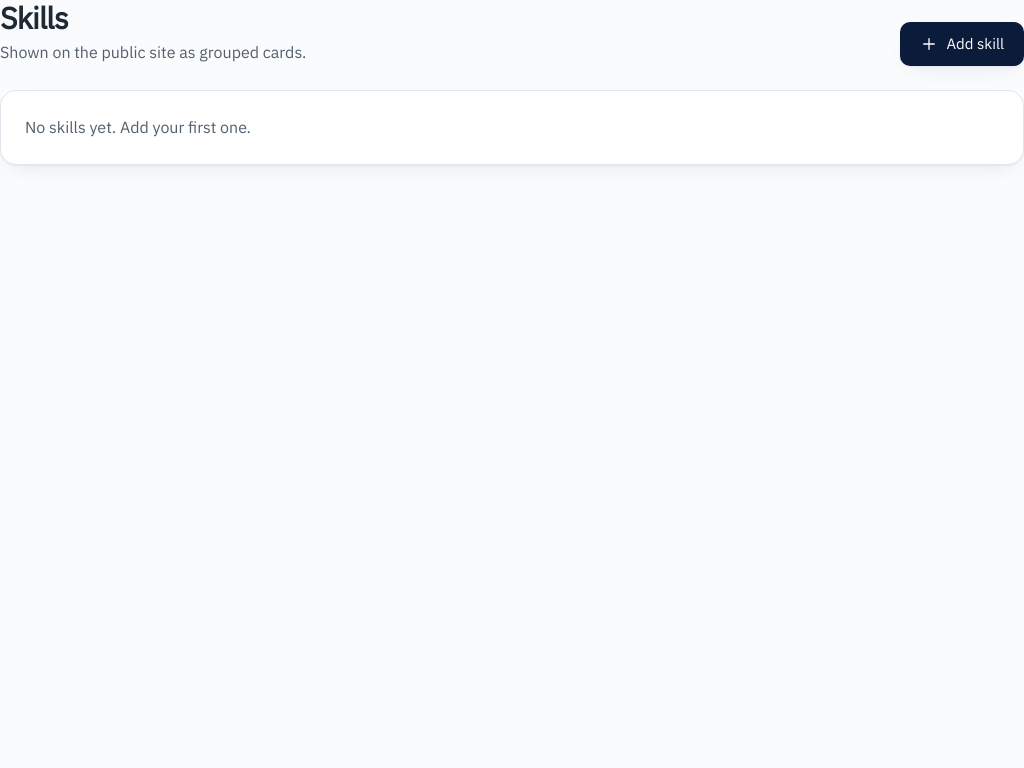
Test case: SkillsPage (config-driven CRUD) › opens an editor with focus moved into it, and validates before sending
This screenshot has width=1024, height=768.
Click the button "Add skill" at (962, 44), box [900,22,1023,66]
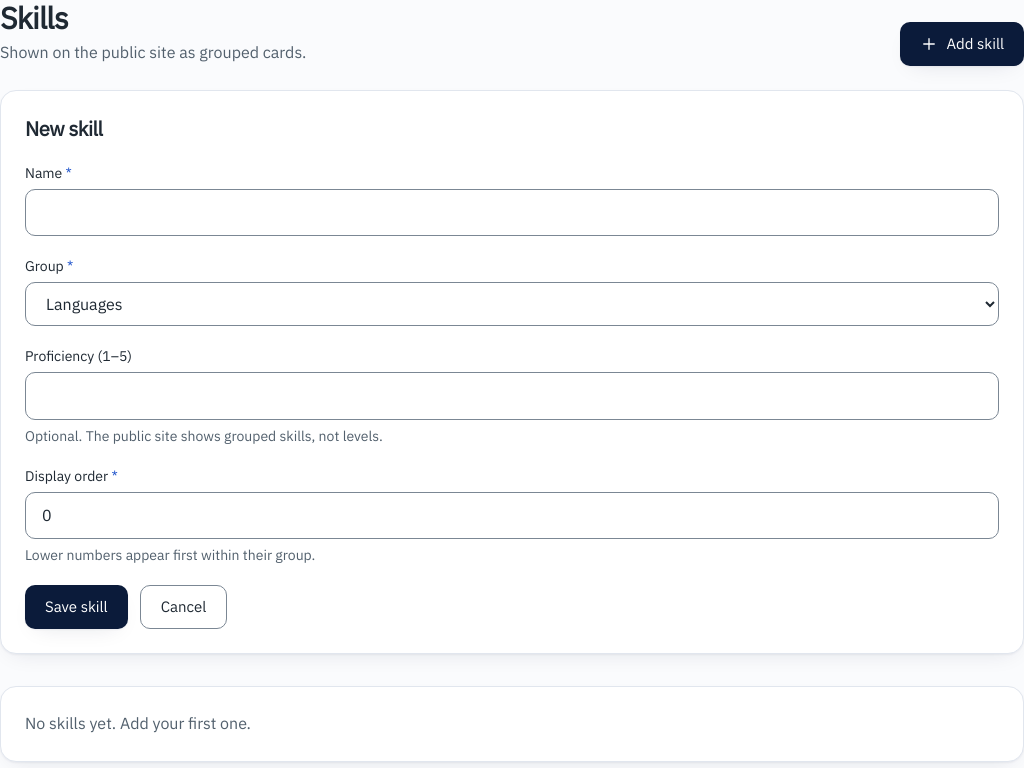
Click the button "Save skill" at (76, 607), box [25,585,128,629]
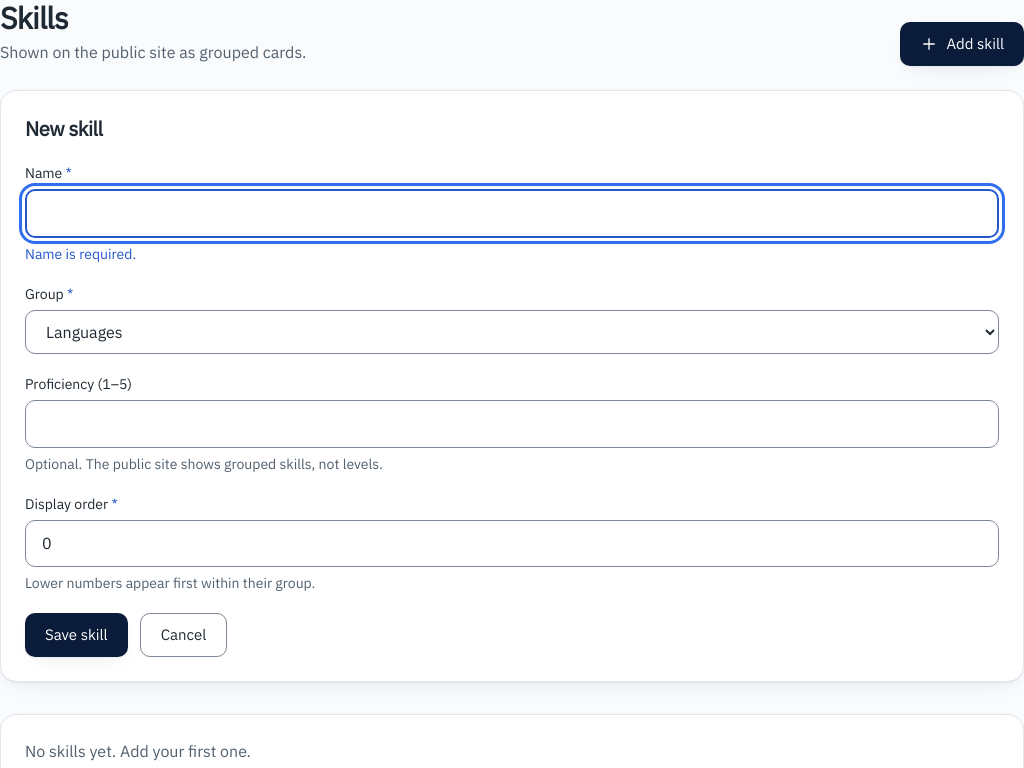
Now the text "Name is required." is shown, box [25,245,136,263]
